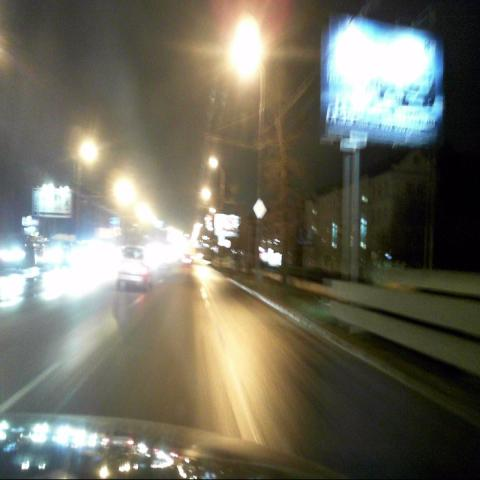2_1: (254, 198, 265, 219)
